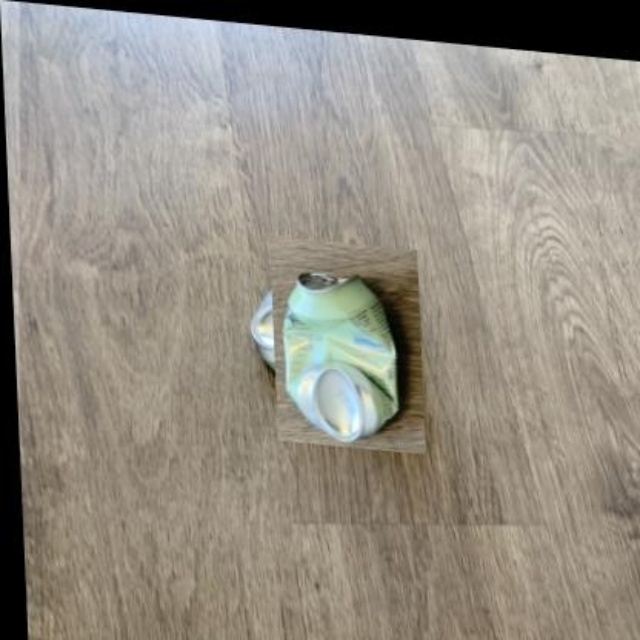trash: (283, 271, 397, 442)
